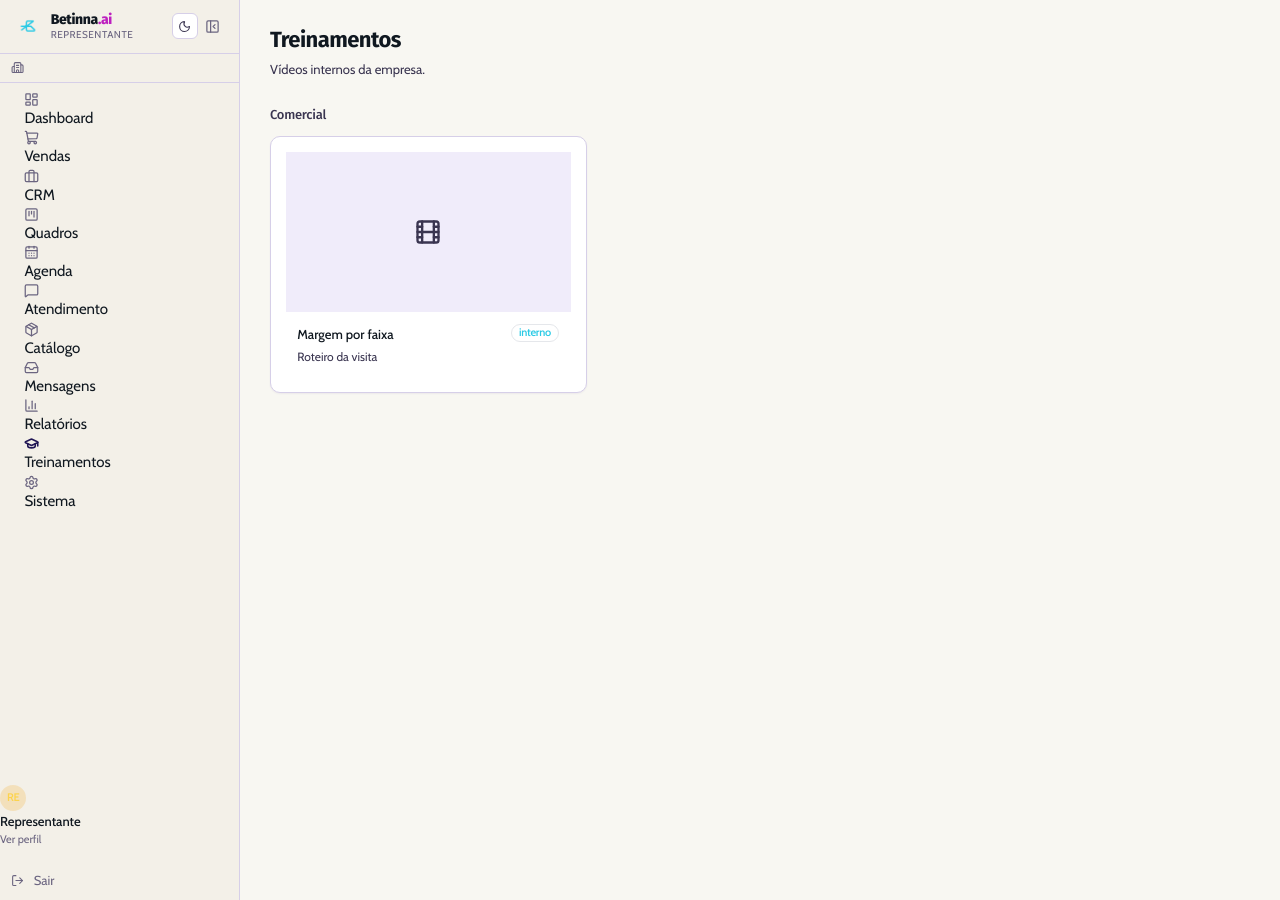
Test: TreinamentosPage — arquivo interno › avisa quando o link assinado falhou, em vez de mostrar tela preta
Click the button with test id "treinamento-abrir-t2" at [428, 232], box x1=286 y1=152 x2=571 y2=312
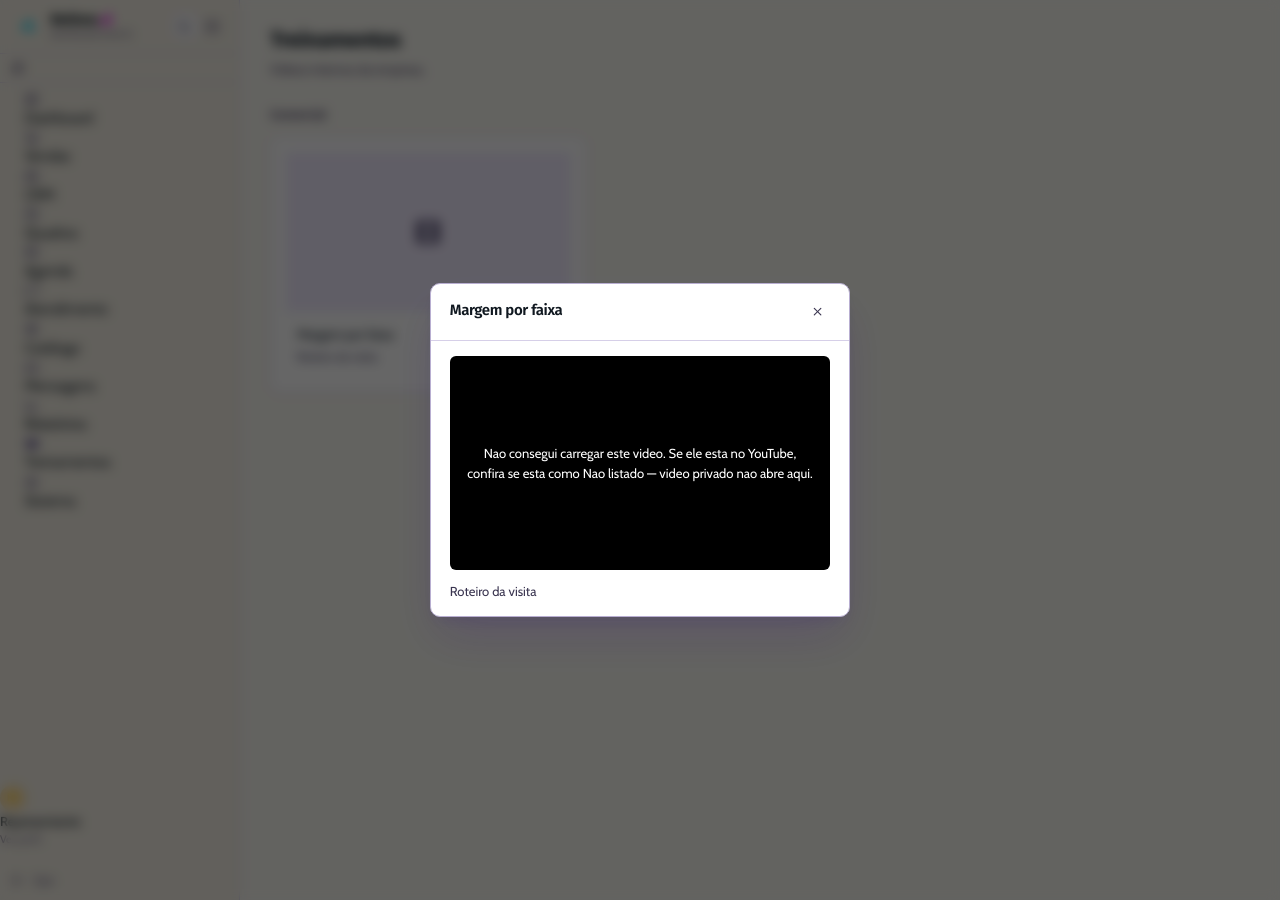
Check: the text with test id "treinamento-indisponivel" is shown, box x1=467 y1=445 x2=813 y2=481
